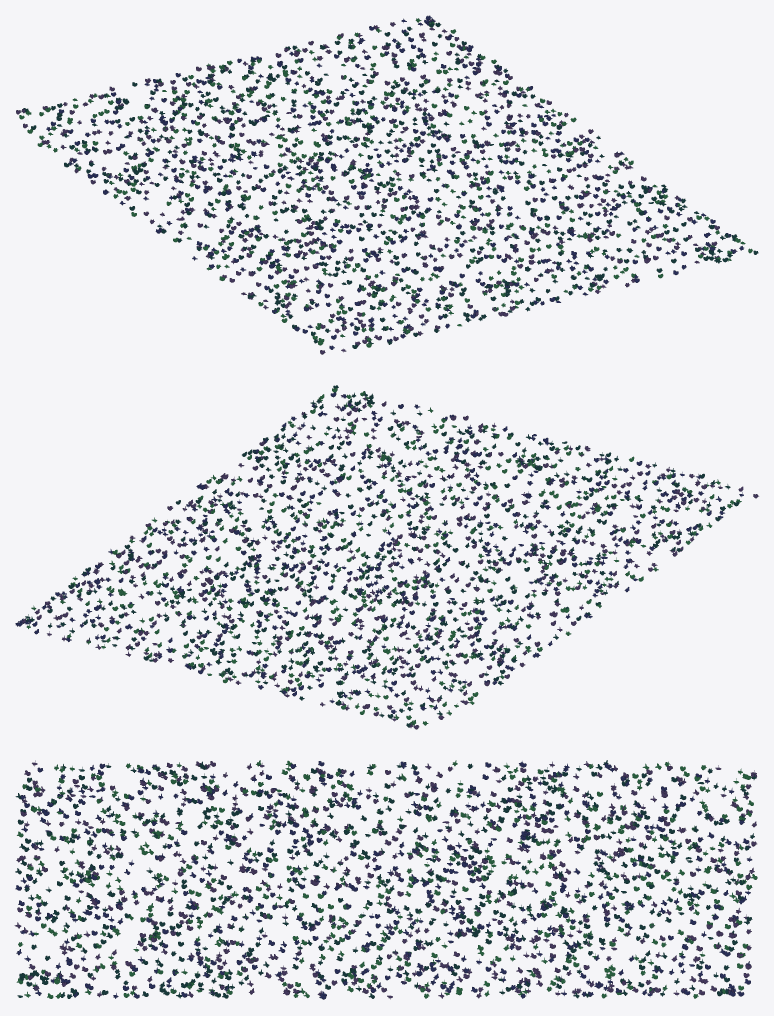
File: Roof_Grass.fbx
3 renders of one model, top to bottom at view 1: azimuth 30°, elevation 25°; view 2: azimuth 150°, elevation 25°; view 3: azimuth 270°, elevation 25°, orthographic. The views are drawn at different scales.
Parts seen in each view (by area): view 1: Ground_Bush_Roof; view 2: Ground_Bush_Roof; view 3: Ground_Bush_Roof.
Boxes of the visible parts, x1,y1,x2,y2 form: Ground_Bush_Roof: (16, 15, 758, 354); Ground_Bush_Roof: (15, 385, 758, 729); Ground_Bush_Roof: (14, 760, 757, 999).
Size of the model in its own units: 2436 by 3238 by 31.5.
